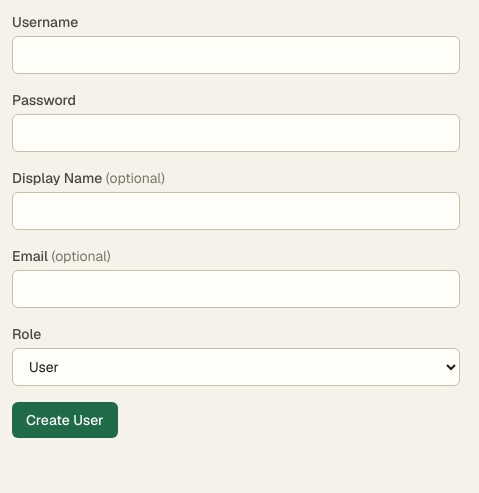
AdminUserForm › should show validation error for short password
In the field labelled "Username": (236, 55) left=12, top=36, right=460, bottom=74, type "newuser"
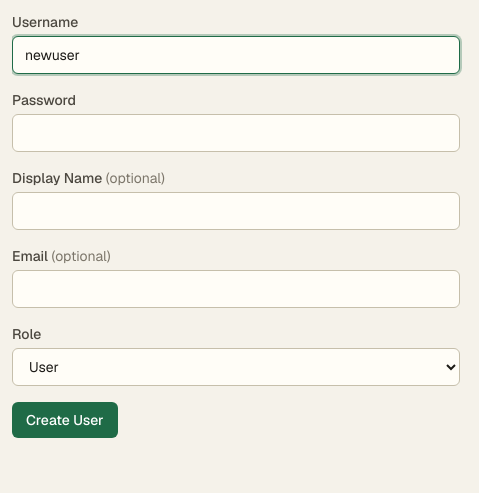
In the password field labelled "Password": (236, 133) left=12, top=114, right=460, bottom=152, type "short"
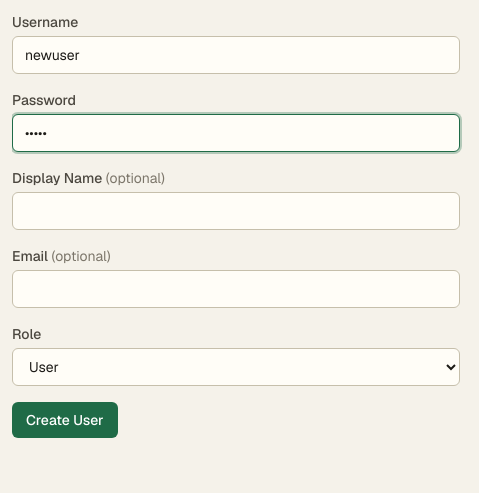
Click the button "Create User": (65, 420) left=12, top=402, right=118, bottom=438
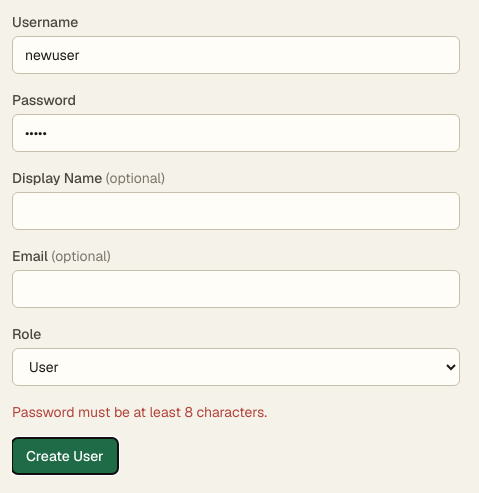
Expected: the text "Password must be at least 8 characters." is shown, left=12, top=403, right=267, bottom=421
